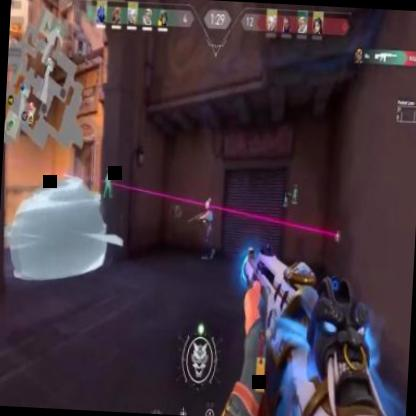enemy: (196, 199, 218, 261)
enemy_head: (203, 198, 210, 210)
